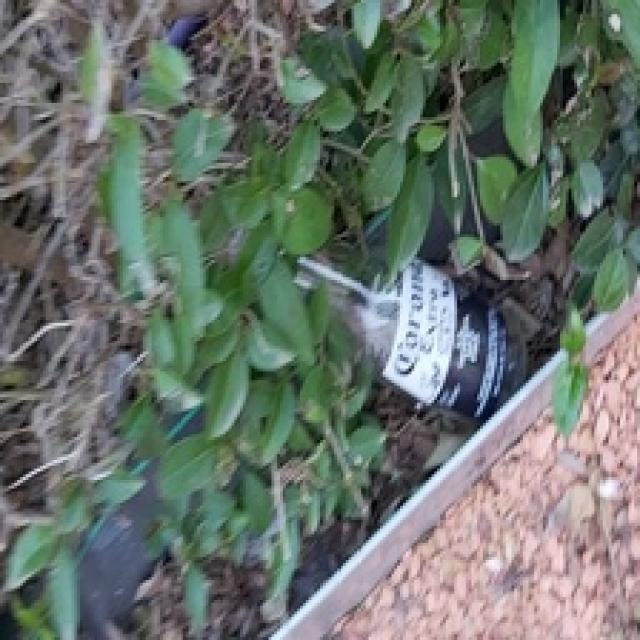Glass: (289, 250, 527, 422)
